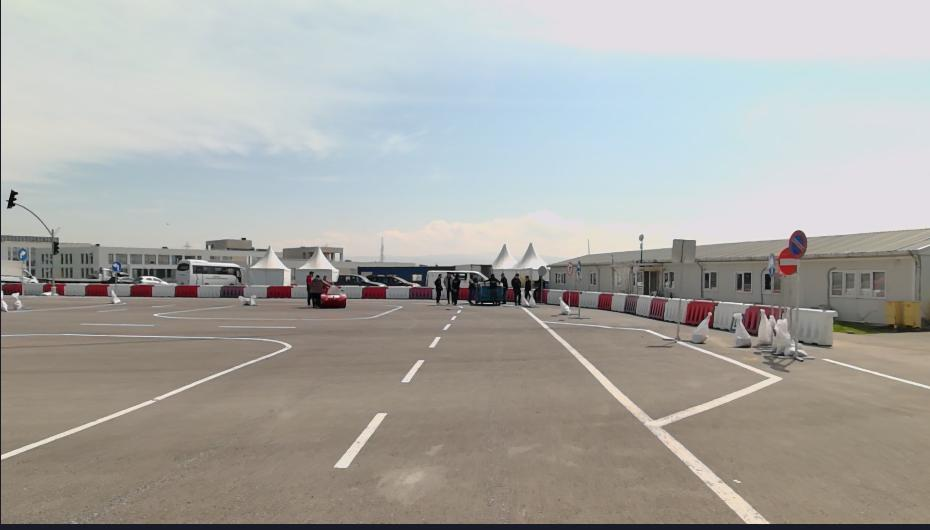nesne: (0, 298, 784, 525), (288, 307, 771, 525), (0, 302, 465, 525), (519, 306, 769, 527), (0, 332, 294, 461), (544, 320, 783, 428), (539, 289, 833, 344), (0, 280, 306, 300), (333, 410, 388, 467), (783, 306, 837, 345), (173, 258, 245, 286), (769, 318, 805, 358), (742, 304, 783, 337), (711, 301, 754, 332), (684, 299, 721, 329), (752, 306, 774, 348), (664, 297, 694, 323), (332, 273, 386, 287), (320, 283, 347, 309), (399, 358, 426, 383), (734, 313, 751, 350), (778, 246, 798, 276), (649, 296, 671, 321), (789, 228, 806, 259), (692, 313, 709, 344), (635, 294, 655, 319), (311, 272, 323, 308), (577, 291, 601, 309), (130, 275, 172, 285), (384, 284, 412, 299), (218, 283, 245, 297), (511, 271, 522, 304), (174, 283, 196, 299), (196, 284, 223, 297), (64, 281, 87, 296), (266, 284, 292, 297), (338, 285, 364, 298), (1, 280, 22, 296), (41, 280, 65, 294), (150, 283, 174, 297), (624, 294, 640, 315), (86, 282, 108, 297), (361, 286, 386, 299), (443, 271, 453, 303), (597, 291, 613, 311), (22, 282, 43, 297), (611, 292, 626, 313), (129, 284, 153, 297), (242, 284, 268, 296), (409, 285, 433, 298), (524, 274, 533, 306), (499, 270, 508, 302), (546, 289, 564, 305), (108, 283, 129, 296), (306, 271, 313, 309), (488, 272, 496, 305), (468, 272, 476, 304), (563, 290, 579, 306), (434, 272, 442, 302), (291, 284, 307, 298), (452, 272, 458, 306), (559, 297, 570, 315), (428, 335, 442, 349), (442, 322, 452, 330), (449, 315, 458, 321)
